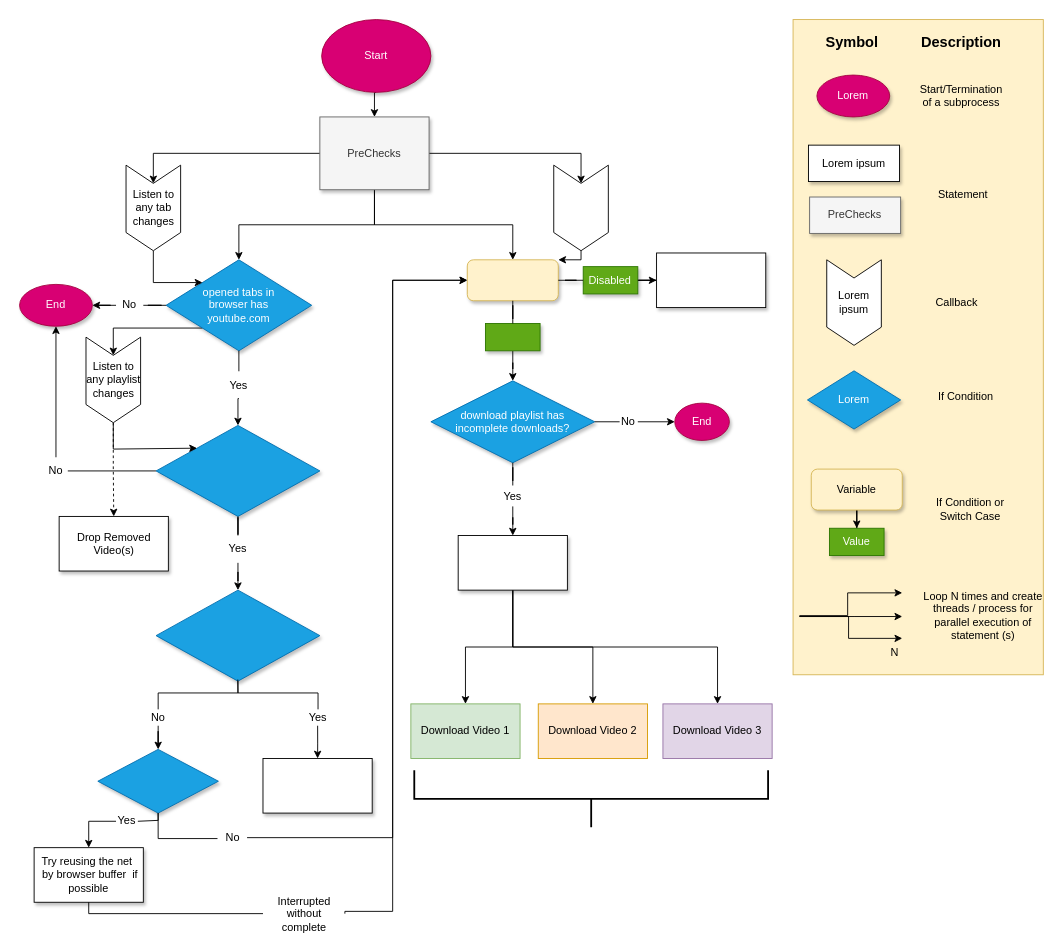
The diagram is 1061 pixels wide and 950 high, and some of its shapes have lost their labels. Each missing label, with the centre of its shape:
"Add up to the Parallel Downloads Queue" belongs at pixel 513 564.
"download" belongs at pixel 513 281.
"Enabled" belongs at pixel 513 338.
"Is it downloaded" belongs at pixel 238 637.
"Listen to any option changes" belongs at pixel 580 207.
"N Videos" belongs at pixel 591 798.
"opened youtube video(s) is under download playlist" belongs at pixel 238 472.
"Play the video using the cache" belongs at pixel 318 786.
"Playing on same quality as download" belongs at pixel 158 782.
"Stop all downloads" belongs at pixel 711 281.
